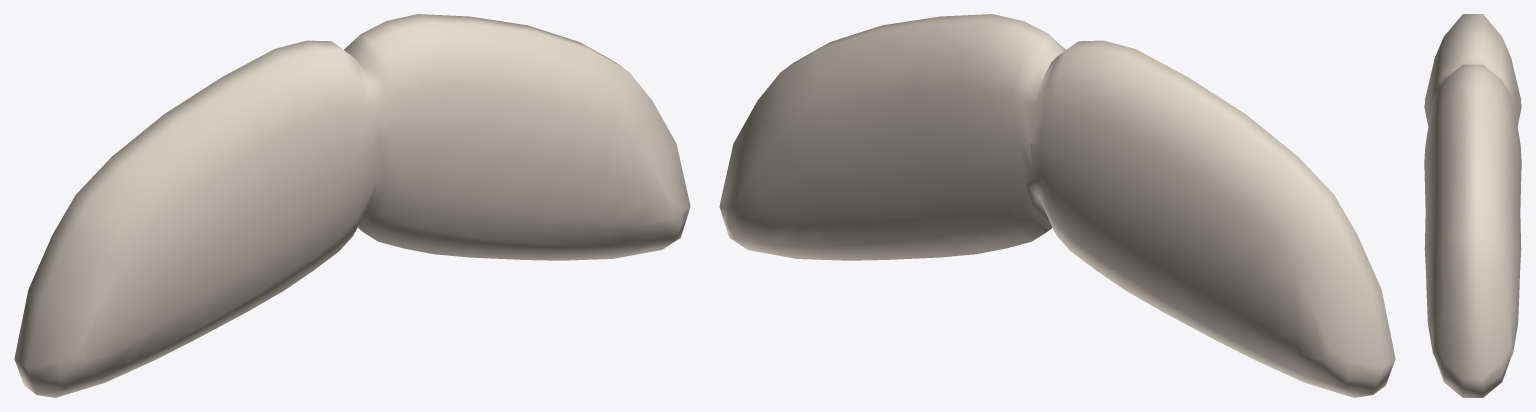
The model's file is Beard_01_07.fbx.
3 renders of one model, left to right at view 1: azimuth 30°, elevation 25°; view 2: azimuth 150°, elevation 25°; view 3: azimuth 270°, elevation 25°, orthographic. The views are drawn at different scales.
Parts seen in each view (by area): view 1: Beard_01_07; view 2: Beard_01_07; view 3: Beard_01_07.
Part boxes in pixels (x1,y1,x2,y2): Beard_01_07: (14,14,690,397); Beard_01_07: (719,14,1395,397); Beard_01_07: (1424,14,1521,397).
Bounding box in the file's own units: 15.94 × 6.52 × 2.55.
